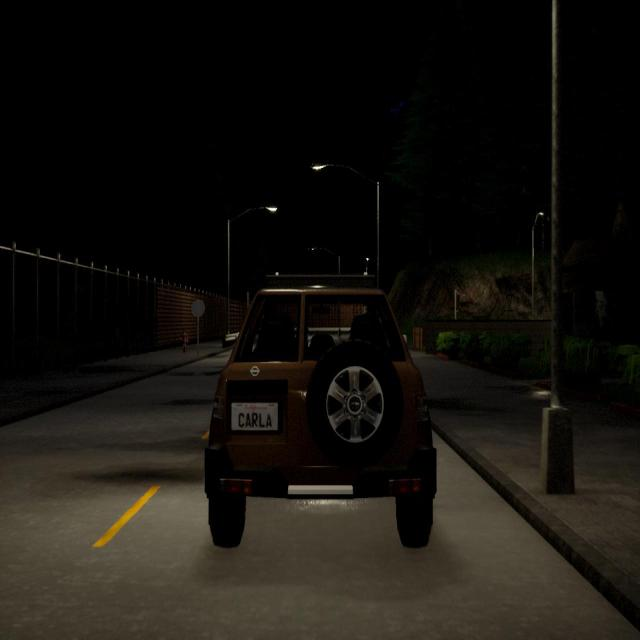Pedestrian: (181, 328, 189, 356)
Traffic_Signs: (191, 299, 205, 317)
Vehicle: (203, 286, 440, 549)
traffic_light: (454, 292, 462, 312)
